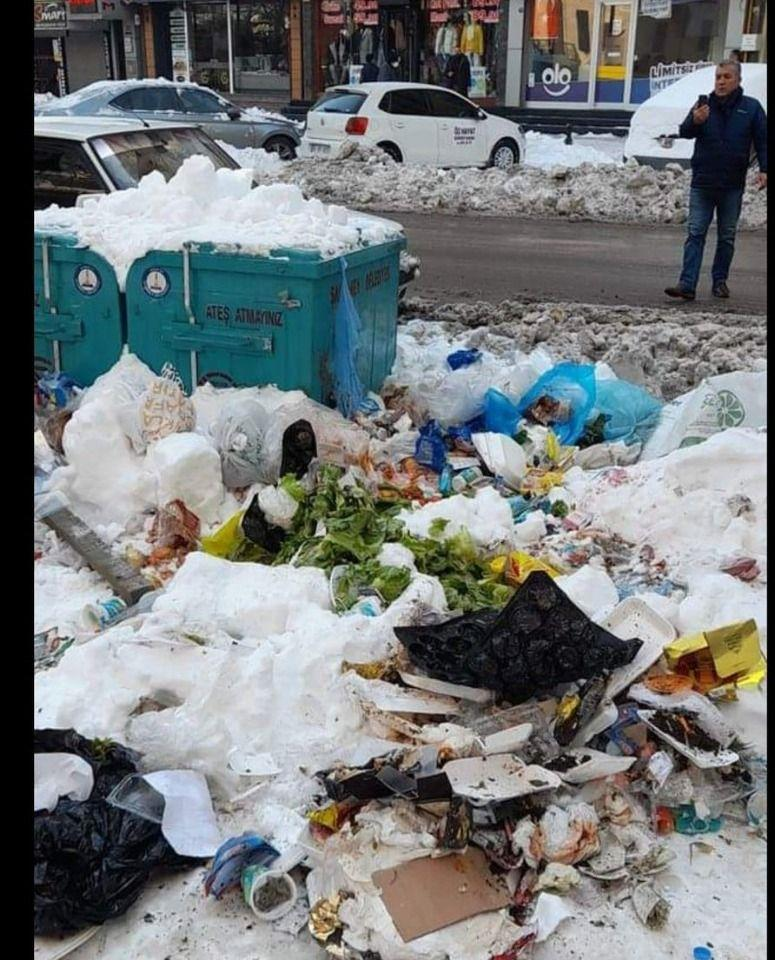Container: (29, 236, 392, 394)
Garbage: (416, 320, 775, 960), (41, 404, 415, 736), (28, 704, 276, 954)
